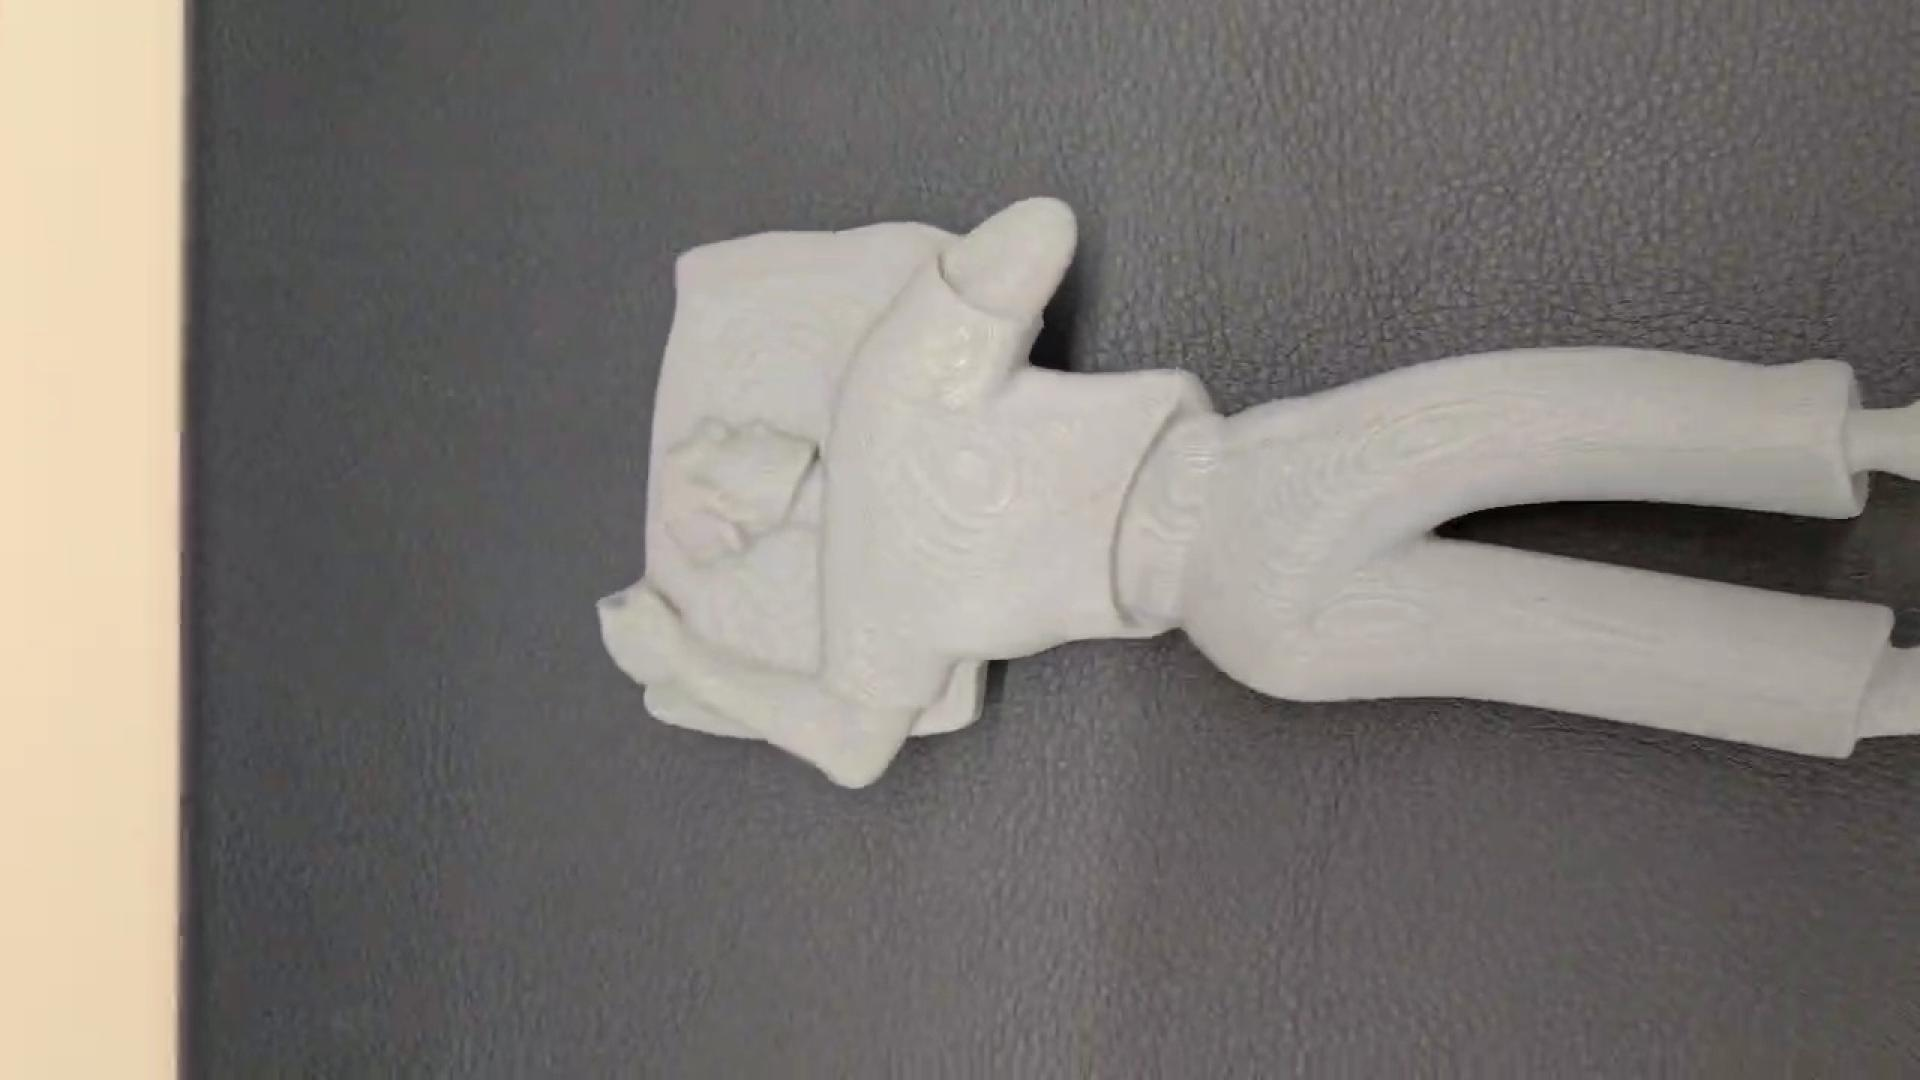Bad-style: (597, 194, 1920, 806)
